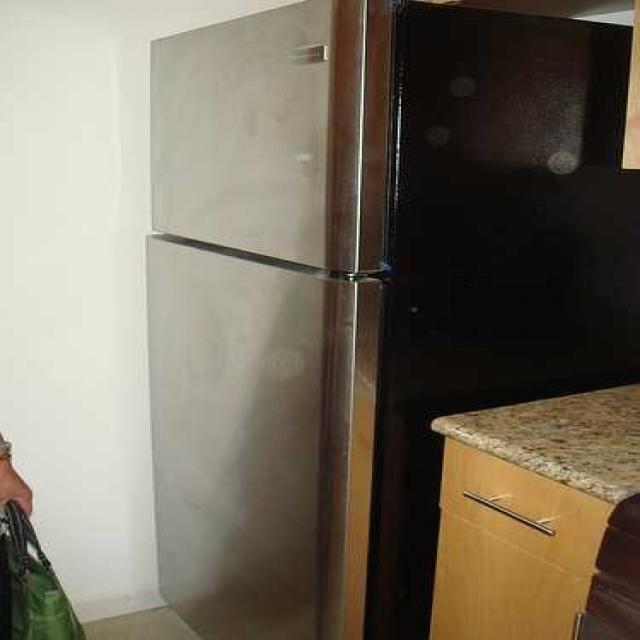refrigerator: (146, 0, 388, 640)
